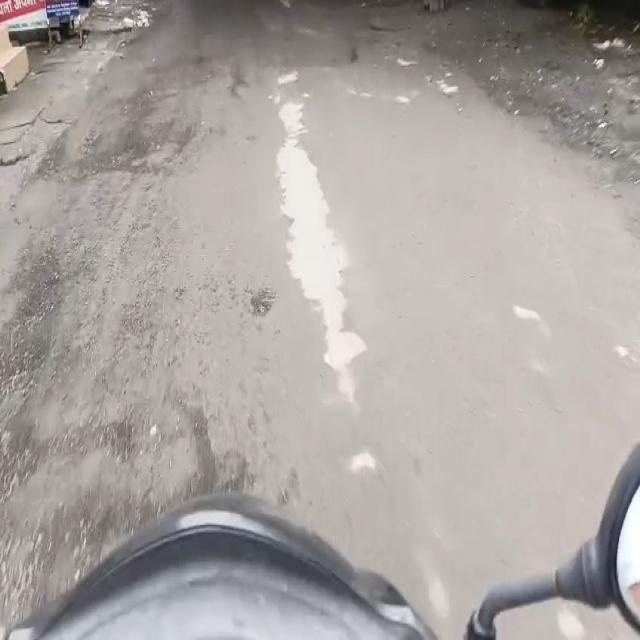road-pothole: (45, 50, 233, 183)
